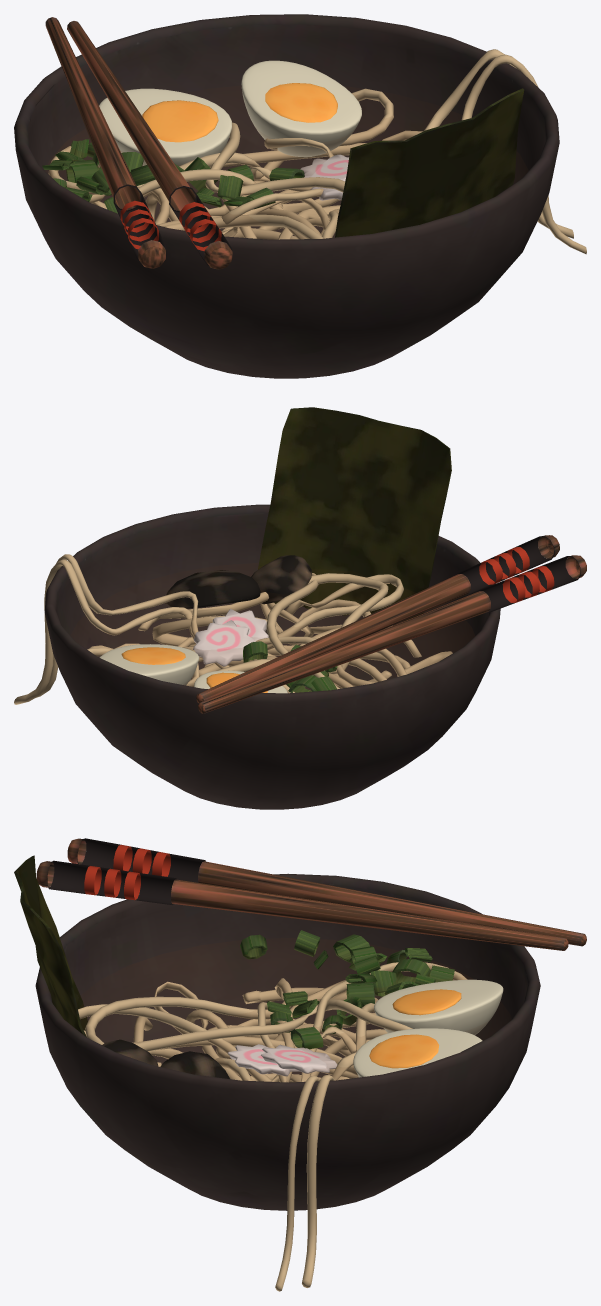
File: ramen_bowl_no_meat.glb
The picture shows the model from 3 angles, top to bottom: view 1: azimuth 30°, elevation 25°; view 2: azimuth 150°, elevation 25°; view 3: azimuth 270°, elevation 25°; orthographic projection. The views are drawn at different scales.
Visible parts, largest first — view 1: Object_4, Object_26, Object_51, Object_2, Object_24, Object_28, Object_32, Object_2.001, Object_14, Object_10, Object_29, Object_30 (+1 smaller); view 2: Object_4, Object_26, Object_51, Object_32, Object_28, Object_29, Object_20, Object_6.002, Object_30, Object_22, Object_2, Object_24 (+2 smaller); view 3: Object_4, Object_51, Object_28, Object_24, Object_32, Object_26, Object_29, Object_2.001, Object_30, Object_2, Object_10, Object_6.002 (+4 smaller).
Part boxes in pixels (<box>): Object_4: <box>14,14,559,378</box>; Object_26: <box>335,88,524,237</box>; Object_51: <box>48,49,586,254</box>; Object_2: <box>241,60,361,157</box>; Object_24: <box>42,139,304,213</box>; Object_28: <box>67,21,232,269</box>; Object_32: <box>45,17,165,268</box>; Object_2.001: <box>99,88,231,166</box>; Object_14: <box>142,100,218,142</box>; Object_10: <box>265,83,337,122</box>; Object_29: <box>113,184,232,265</box>; Object_30: <box>120,200,221,251</box>; Object_4: <box>44,504,500,809</box>; Object_26: <box>258,407,451,638</box>; Object_51: <box>14,554,452,704</box>; Object_32: <box>198,555,586,713</box>; Object_28: <box>196,535,559,702</box>; Object_29: <box>456,536,580,612</box>; Object_20: <box>164,570,260,608</box>; Object_6.002: <box>193,620,253,666</box>; Object_30: <box>479,547,554,602</box>; Object_22: <box>251,555,311,604</box>; Object_2: <box>99,644,199,685</box>; Object_24: <box>243,641,345,692</box>; Object_4: <box>35,873,540,1210</box>; Object_51: <box>78,962,467,1291</box>; Object_28: <box>36,861,568,950</box>; Object_24: <box>240,930,454,1049</box>; Object_32: <box>67,838,586,946</box>; Object_26: <box>14,855,87,1037</box>; Object_29: <box>47,838,205,904</box>; Object_2.001: <box>374,979,503,1035</box>; Object_30: <box>84,844,170,900</box>; Object_2: <box>353,1028,482,1077</box>; Object_10: <box>369,1034,439,1068</box>; Object_6.002: <box>261,1044,337,1073</box>.
Size of the model in its own units: 2.36 by 1.24 by 2.28.
15 materials, 11 textured.
